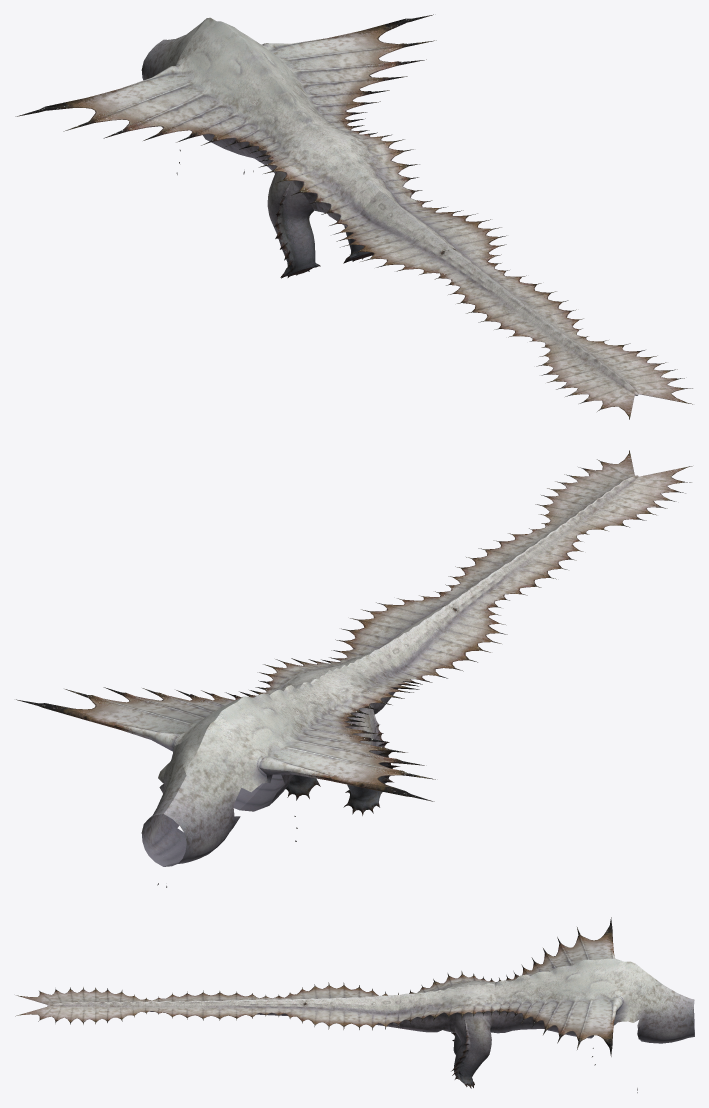
The model's file is torsod0.obj.
3 views of the same model, one above another, from view 1: azimuth 30°, elevation 25°; view 2: azimuth 150°, elevation 25°; view 3: azimuth 270°, elevation 25° (orthographic). The views are drawn at different scales.
Visible parts, largest first — view 1: 002dwbewilderbeastbodymesh1; view 2: 002dwbewilderbeastbodymesh1; view 3: 002dwbewilderbeastbodymesh1.
Boxes of the visible parts, x1,y1,x2,y2 form: 002dwbewilderbeastbodymesh1: [15, 14, 692, 419]; 002dwbewilderbeastbodymesh1: [16, 450, 692, 887]; 002dwbewilderbeastbodymesh1: [15, 917, 694, 1092].
Size of the model in its own units: 65.24 by 25.85 by 134.
1 material, 1 textured.
